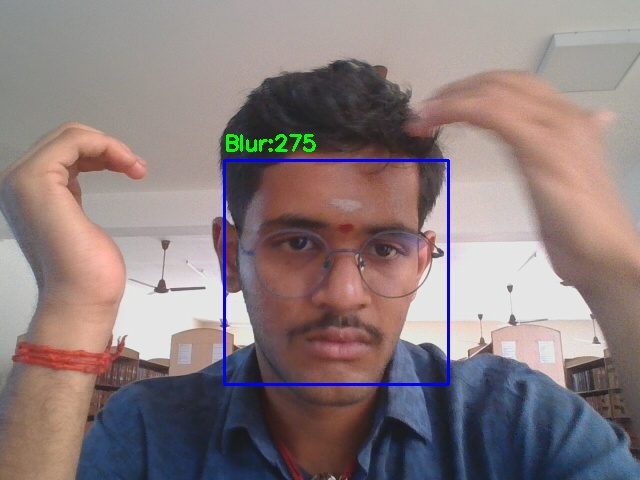real: (224, 160, 448, 384)
